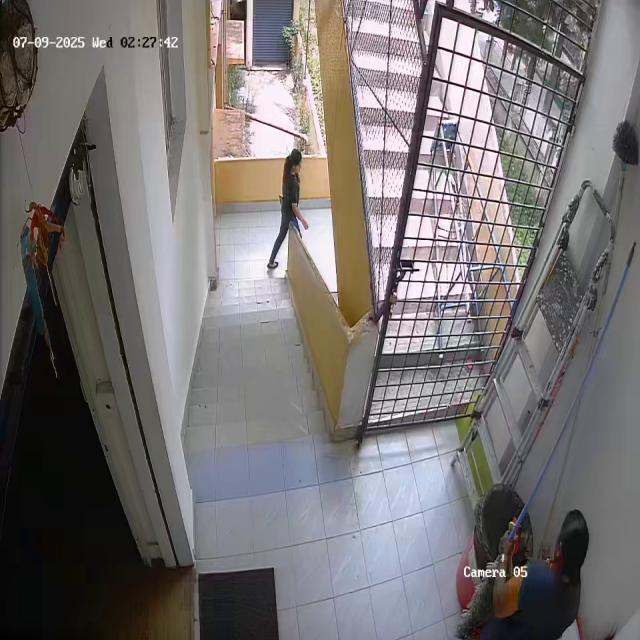person: (500, 504, 594, 640), (268, 145, 308, 266)
